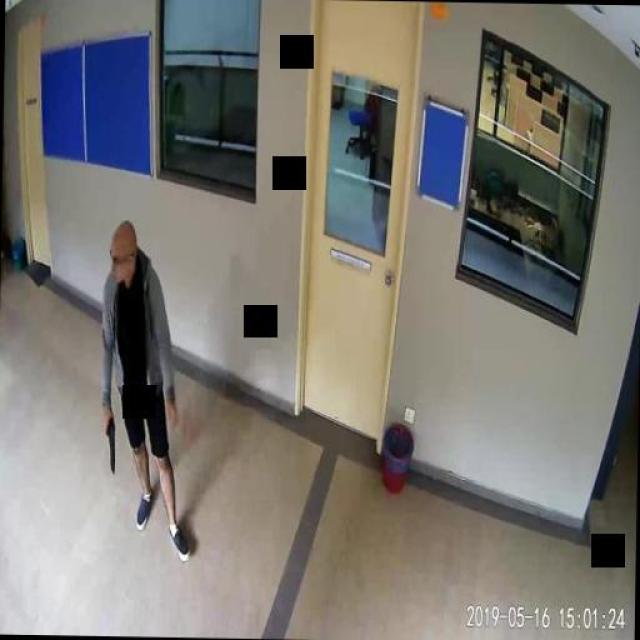gun: (102, 412, 116, 472)
